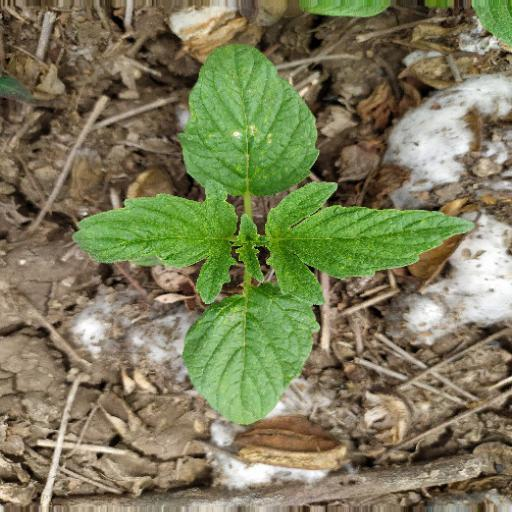crop: (64, 42, 474, 416)
